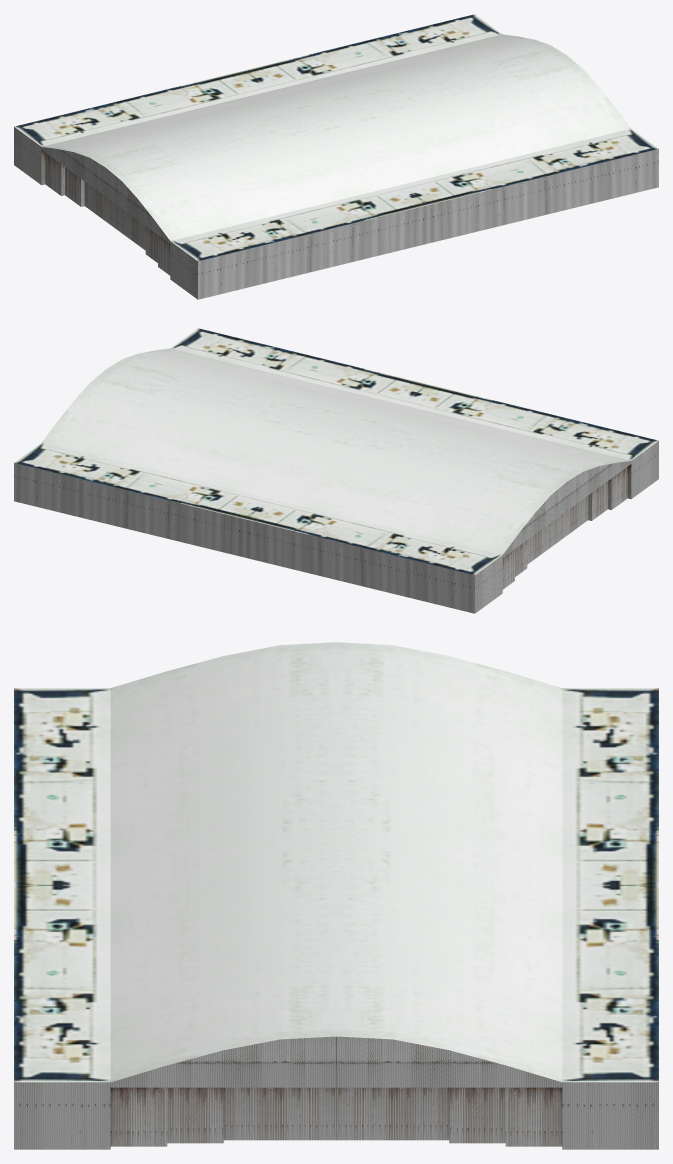
Rendered from Hangar9.gltf.
3 renders of one model, top to bottom at view 1: azimuth 30°, elevation 25°; view 2: azimuth 150°, elevation 25°; view 3: azimuth 270°, elevation 25°, orthographic. The views are drawn at different scales.
Visible parts, largest first — view 1: Hangar9; view 2: Hangar9; view 3: Hangar9.
Boxes of the visible parts, box(x1,y1,x2,y2) form: Hangar9: box(14, 14, 658, 299); Hangar9: box(14, 328, 658, 613); Hangar9: box(14, 642, 658, 1149).
Size of the model in its own units: 62.74 by 8.4 by 43.38.
1 material, 1 textured.
